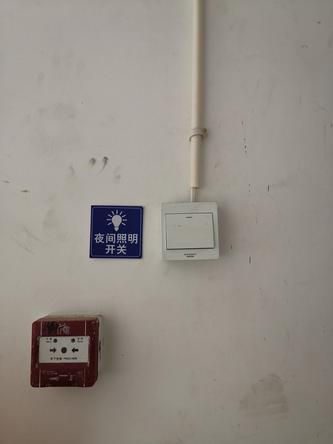switch: (163, 208, 217, 254)
